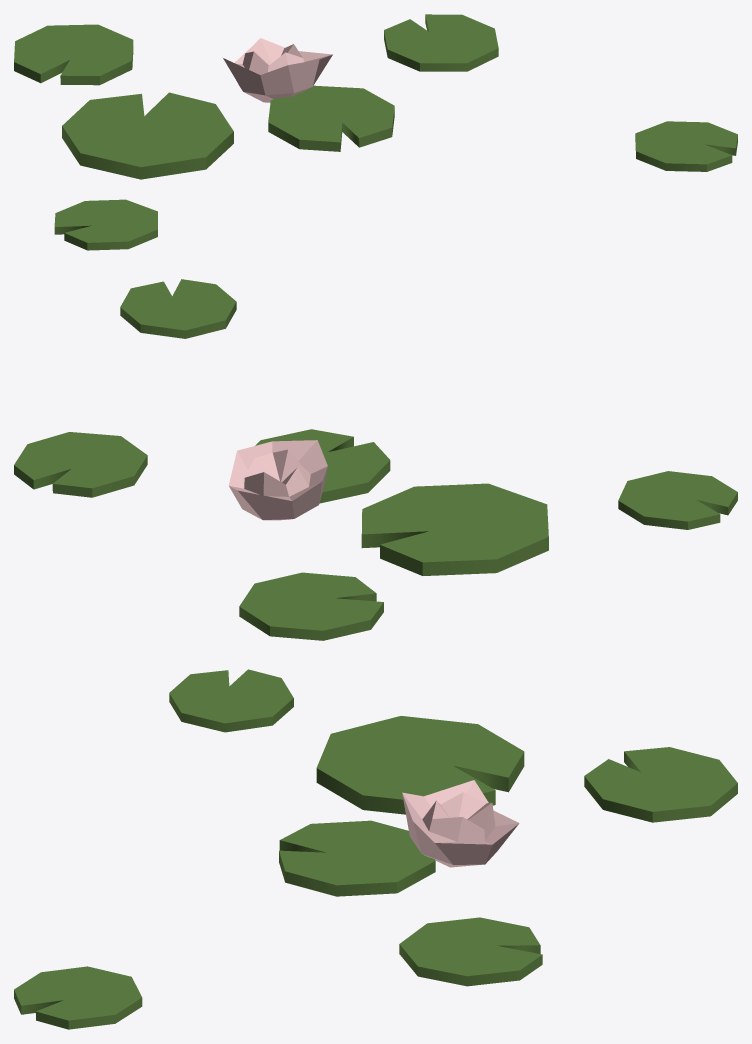
File: SM_Env_Lillypads_02.gltf
3 views of the same model, one above another, from view 1: azimuth 30°, elevation 25°; view 2: azimuth 150°, elevation 25°; view 3: azimuth 270°, elevation 25° (orthographic). The views are drawn at different scales.
Visible parts, largest first — view 1: SM_Env_Lillypads_02; view 2: SM_Env_Lillypads_02; view 3: SM_Env_Lillypads_02.
Part boxes in pixels (x1,y1,x2,y2): SM_Env_Lillypads_02: [14, 14, 737, 250]; SM_Env_Lillypads_02: [14, 279, 737, 640]; SM_Env_Lillypads_02: [14, 669, 737, 1029].
Size of the model in its own units: 1.63 by 0.1408 by 1.42.
Materials: 1 (1 with a texture image).
